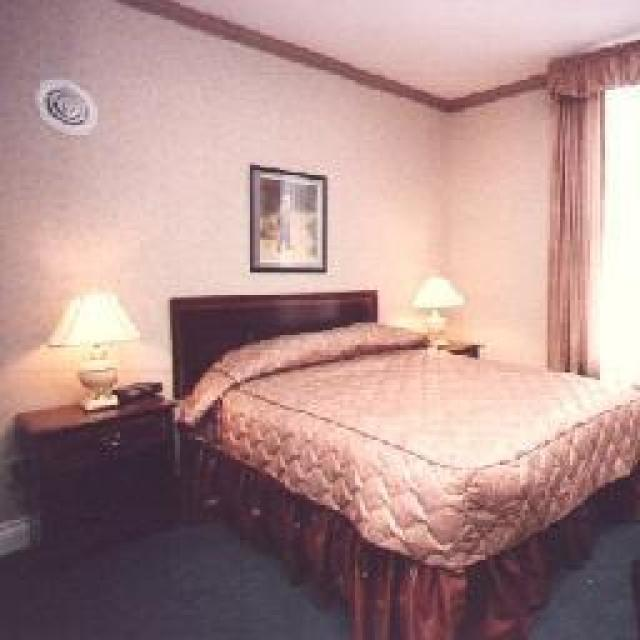bed: (168, 288, 638, 638)
cupboard: (12, 388, 180, 558)
lamps: (45, 288, 140, 410), (410, 275, 462, 345)
